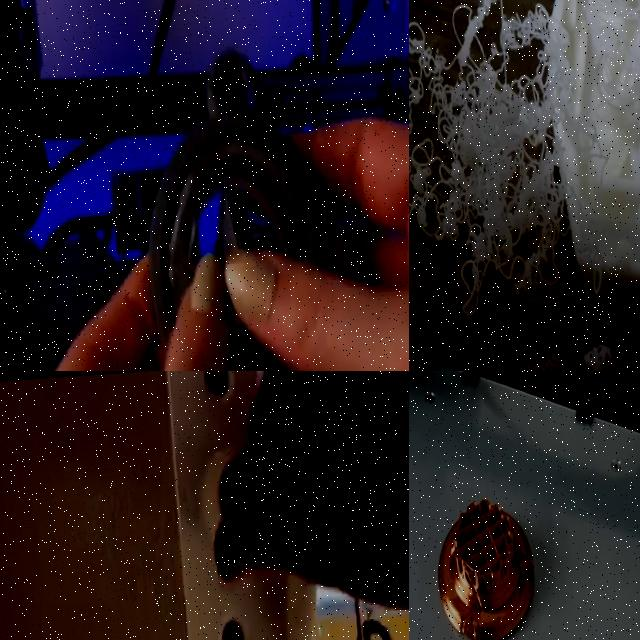spaghetti: (409, 0, 591, 319)
